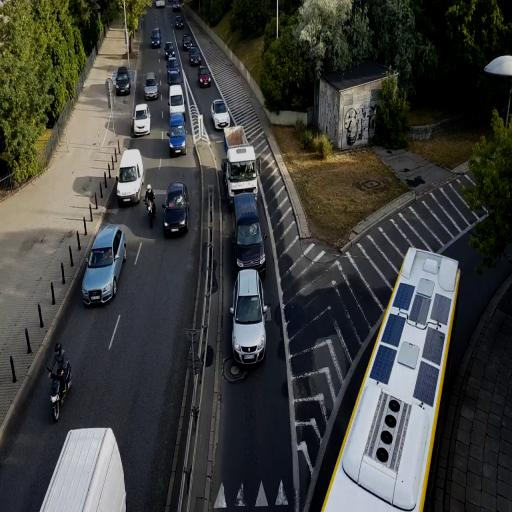vehicle: (326, 246, 461, 506), (38, 426, 126, 511), (227, 144, 267, 276), (81, 224, 127, 306), (231, 268, 268, 366), (232, 189, 266, 275), (226, 144, 258, 203), (116, 148, 144, 206), (48, 362, 71, 422), (163, 182, 188, 236), (168, 112, 186, 156), (212, 97, 233, 130), (132, 103, 150, 137), (114, 67, 132, 96), (144, 74, 159, 101), (198, 68, 212, 88), (151, 28, 161, 48), (165, 41, 176, 59)
